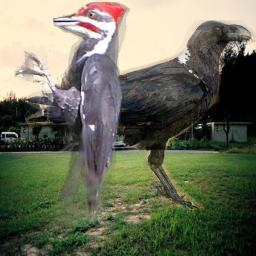Crow: (25, 20, 256, 210)
Woodpecker: (14, 2, 130, 227)
